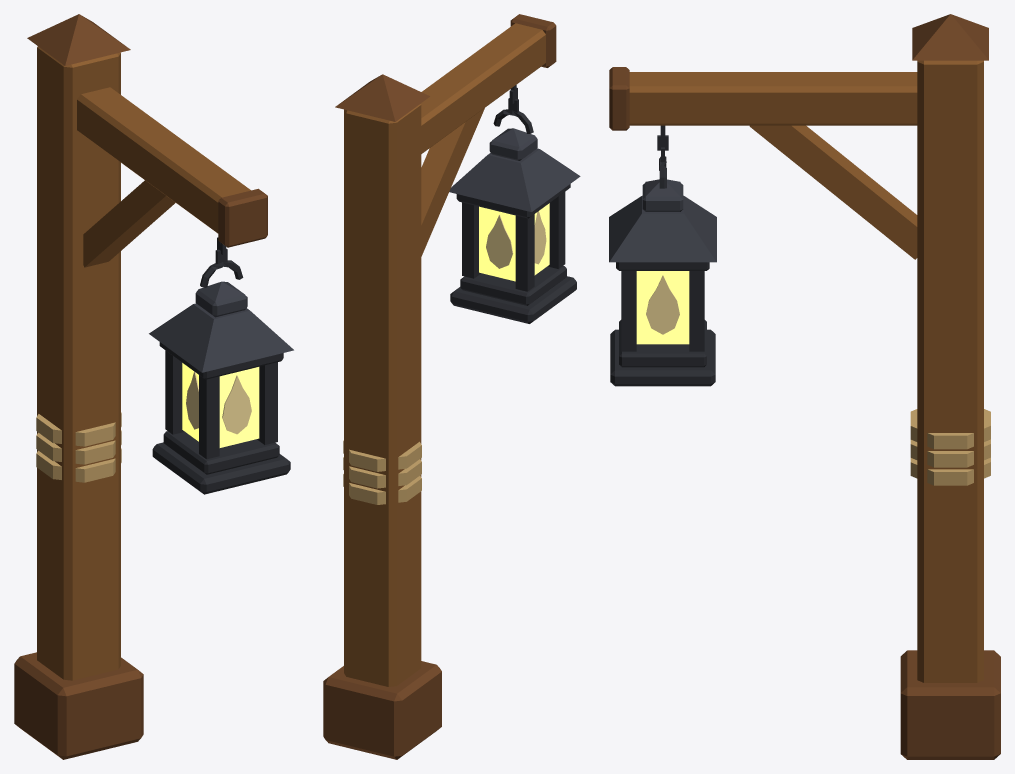
The model's file is Prop_DockLampPost.fbx.
3 renders of one model, left to right at view 1: azimuth 30°, elevation 25°; view 2: azimuth 150°, elevation 25°; view 3: azimuth 270°, elevation 25°, orthographic. The views are drawn at different scales.
Parts seen in each view (by area): view 1: Prop_DockLampPost; view 2: Prop_DockLampPost; view 3: Prop_DockLampPost.
Boxes of the visible parts, left/top/right/bottom form: Prop_DockLampPost: left=14, top=14, right=293, bottom=759; Prop_DockLampPost: left=323, top=14, right=580, bottom=759; Prop_DockLampPost: left=609, top=14, right=1000, bottom=759.
Bounding box in the file's own units: 0.322 × 2.4 × 1.17.
